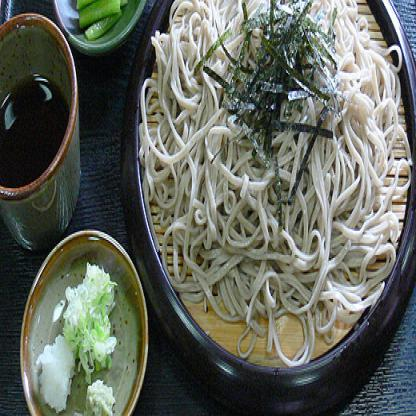memil soba: (149, 0, 401, 327)
